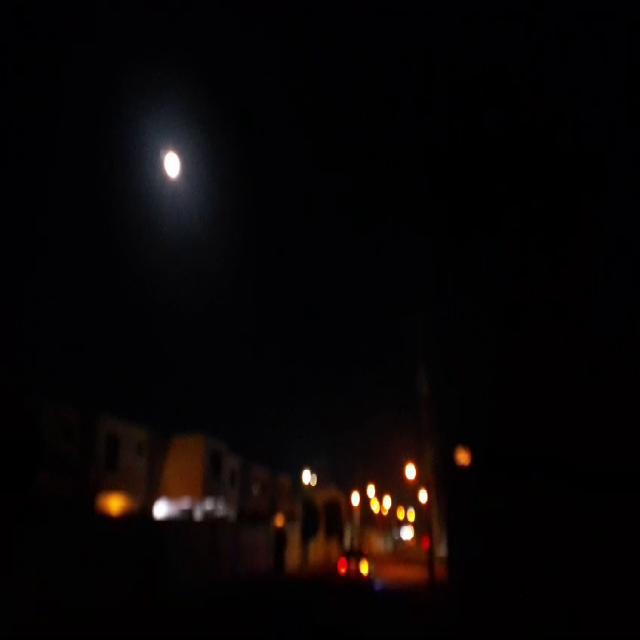moon: (164, 148, 184, 182)
